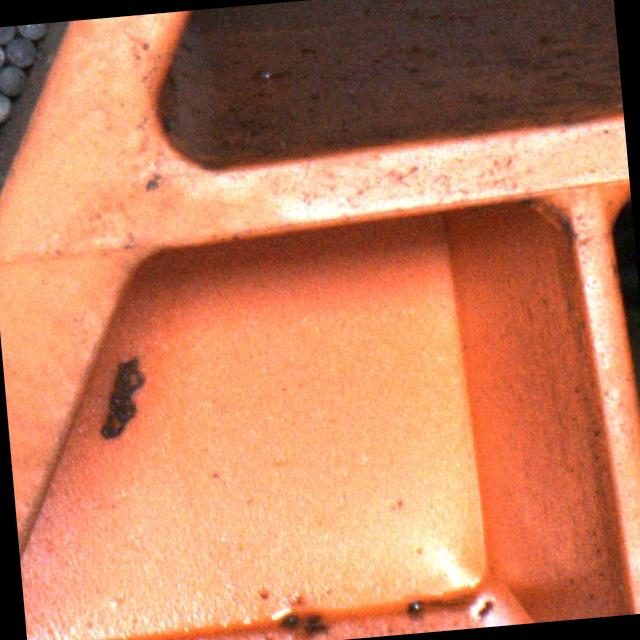tool: (3, 35, 34, 66), (0, 64, 26, 95), (16, 23, 45, 38), (0, 91, 11, 122), (0, 26, 15, 43)
